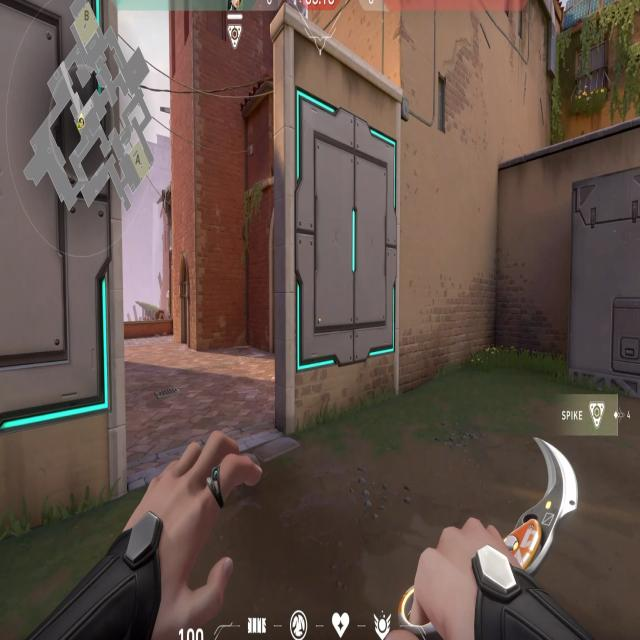Mid_Wall: (0, 0, 115, 409), (292, 82, 398, 382)
